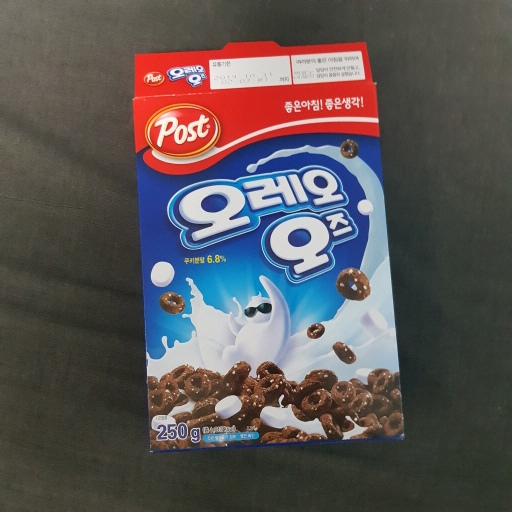Paper_0: (123, 36, 415, 456)
